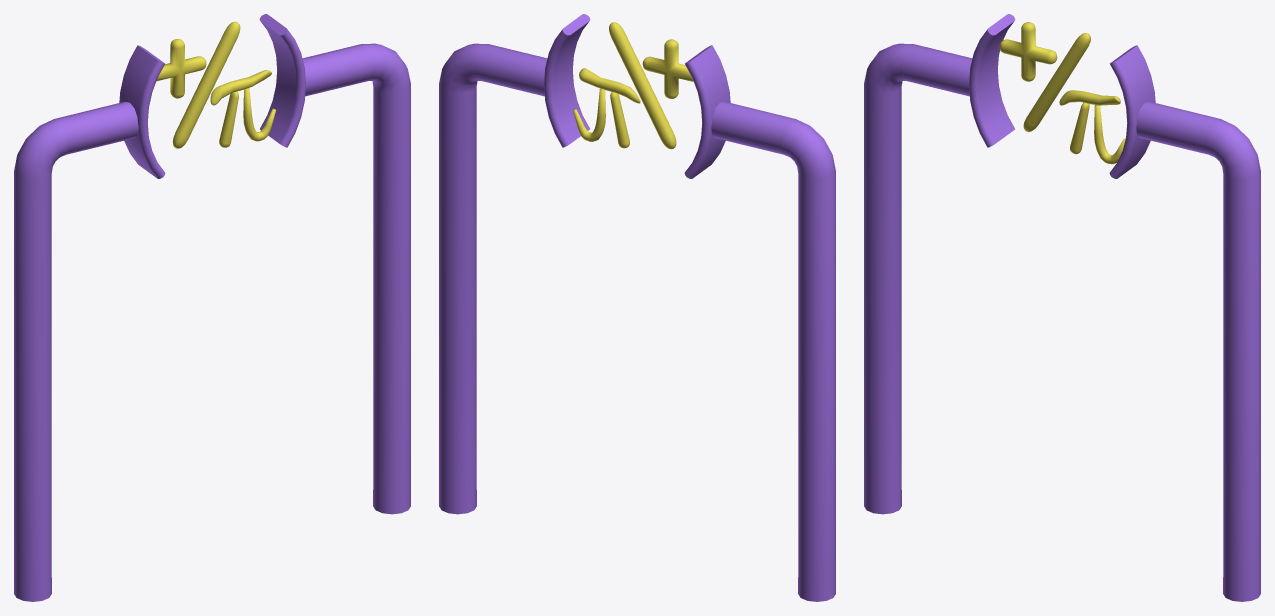
The model's file is OgretmenKaps.fbx.
The picture shows the model from 3 angles, left to right: view 1: azimuth 30°, elevation 25°; view 2: azimuth 150°, elevation 25°; view 3: azimuth 330°, elevation 25°; orthographic projection.
Visible parts, largest first — view 1: Cube, Circle, Cube.002, Cube.001, Cube.004, Plane.001, Cube.003; view 2: Cube, Circle, Cube.002, Cube.001, Cube.004, Plane.001, Cube.003; view 3: Cube, Circle, Cube.002, Cube.001, Plane.001, Cube.004, Cube.003.
Boxes of the visible parts, left/top/right/bottom form: Cube: left=14, top=43, right=410, bottom=601; Circle: left=119, top=14, right=305, bottom=178; Cube.002: left=172, top=21, right=240, bottom=148; Cube.001: left=156, top=39, right=206, bottom=98; Cube.004: left=210, top=70, right=271, bottom=105; Plane.001: left=243, top=88, right=275, bottom=141; Cube.003: left=219, top=91, right=238, bottom=147; Cube: left=439, top=43, right=835, bottom=601; Circle: left=544, top=14, right=730, bottom=178; Cube.002: left=609, top=22, right=676, bottom=149; Cube.001: left=642, top=39, right=693, bottom=98; Cube.004: left=579, top=68, right=640, bottom=103; Plane.001: left=573, top=88, right=605, bottom=141; Cube.003: left=610, top=92, right=629, bottom=148; Cube: left=864, top=43, right=1260, bottom=601; Circle: left=969, top=14, right=1155, bottom=178; Cube.002: left=1023, top=33, right=1090, bottom=132; Cube.001: left=999, top=22, right=1057, bottom=81; Plane.001: left=1094, top=105, right=1125, bottom=164; Cube.004: left=1059, top=90, right=1120, bottom=105; Cube.003: left=1070, top=102, right=1089, bottom=154.
Bounding box in the file's own units: 71.86 × 91.51 × 7.6.
